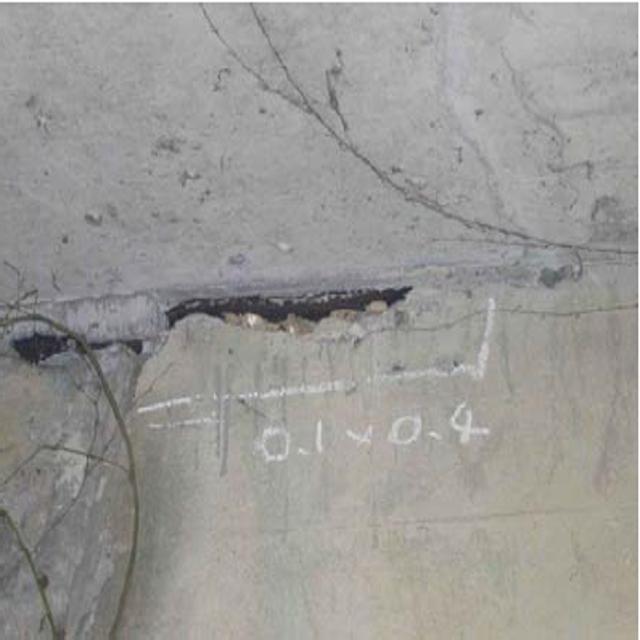spalling: (13, 272, 418, 377)
